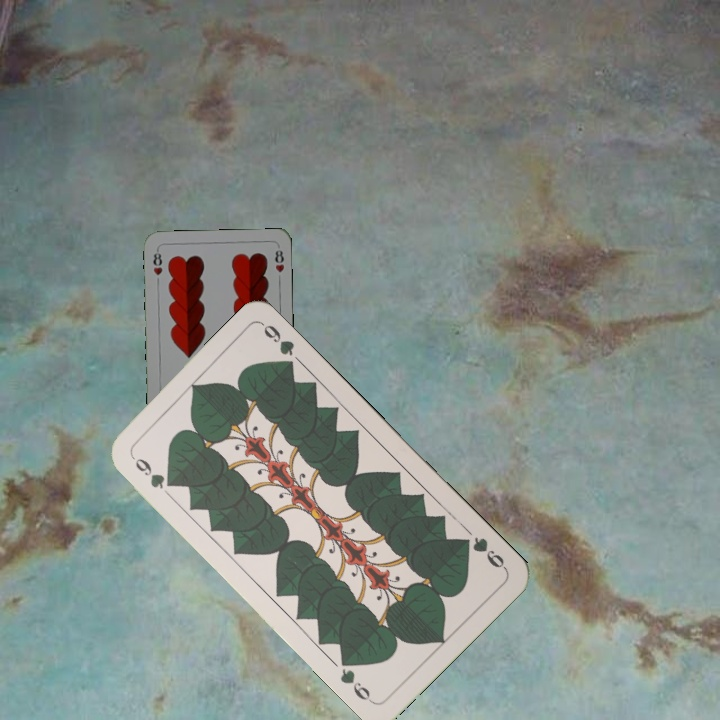G9: (456, 532, 509, 572), (127, 451, 177, 492)
H8: (149, 246, 165, 278)
